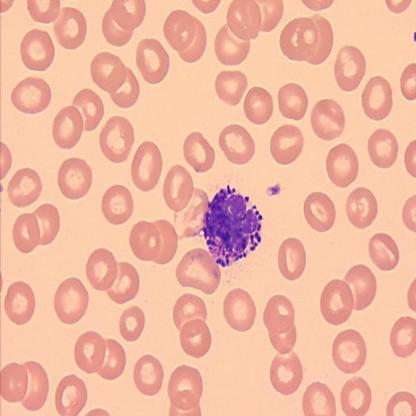Basophil: (201, 182, 265, 268)
